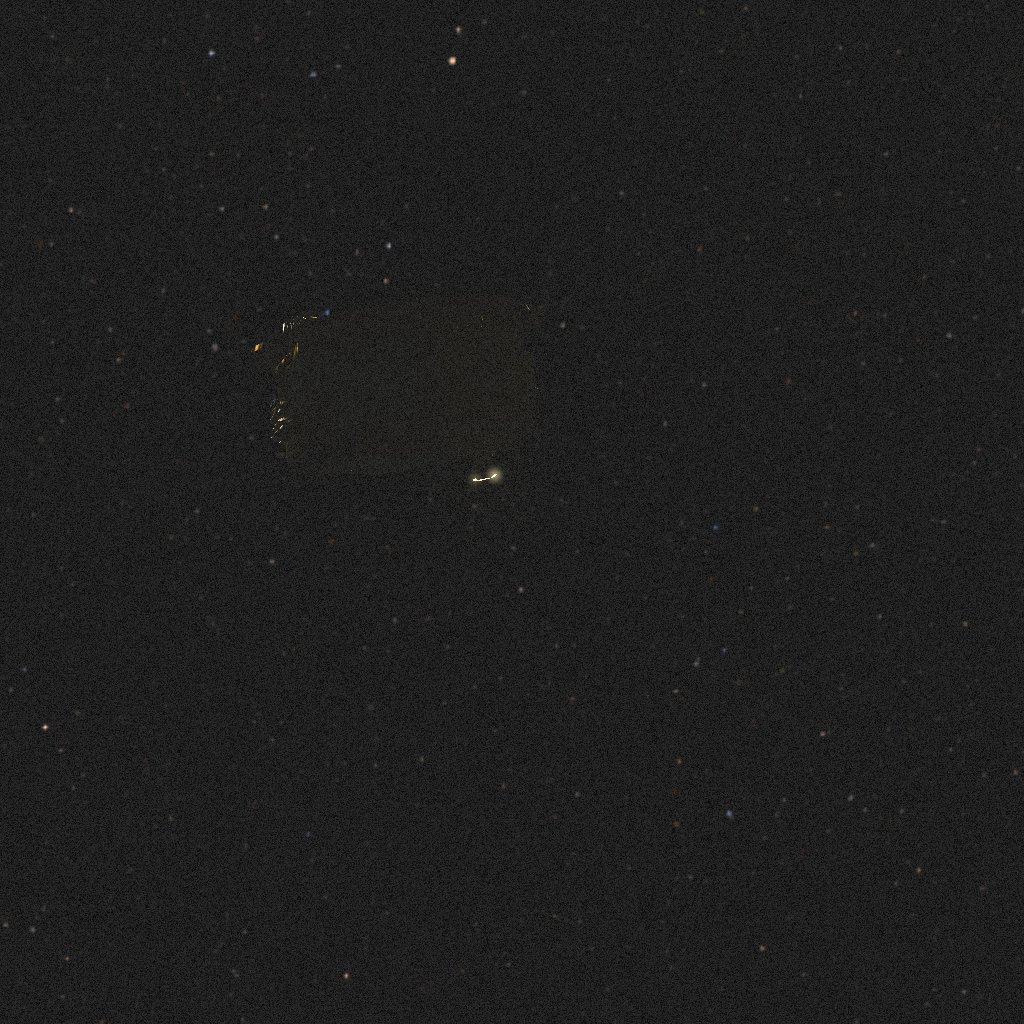lisa_pathfinder: (264, 294, 555, 525)
